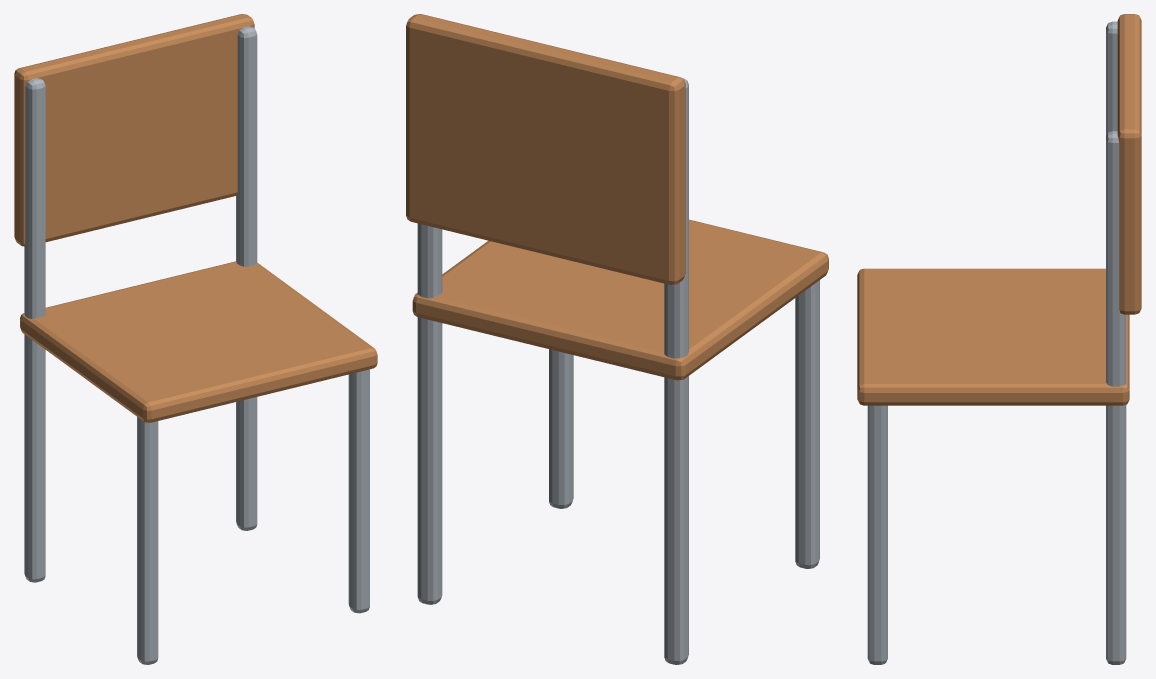
Rendered from chair.glb.
3 views of the same model, side by side, from view 1: azimuth 30°, elevation 25°; view 2: azimuth 150°, elevation 25°; view 3: azimuth 270°, elevation 25° (orthographic). The views are drawn at different scales.
Parts seen in each view (by area): view 1: chair; view 2: chair; view 3: chair.
Boxes of the visible parts, x1,y1,x2,y2 form: chair: [14, 14, 377, 664]; chair: [406, 14, 828, 664]; chair: [857, 14, 1141, 664].
Size of the model in its own units: 0.42 by 0.87 by 0.4175.
